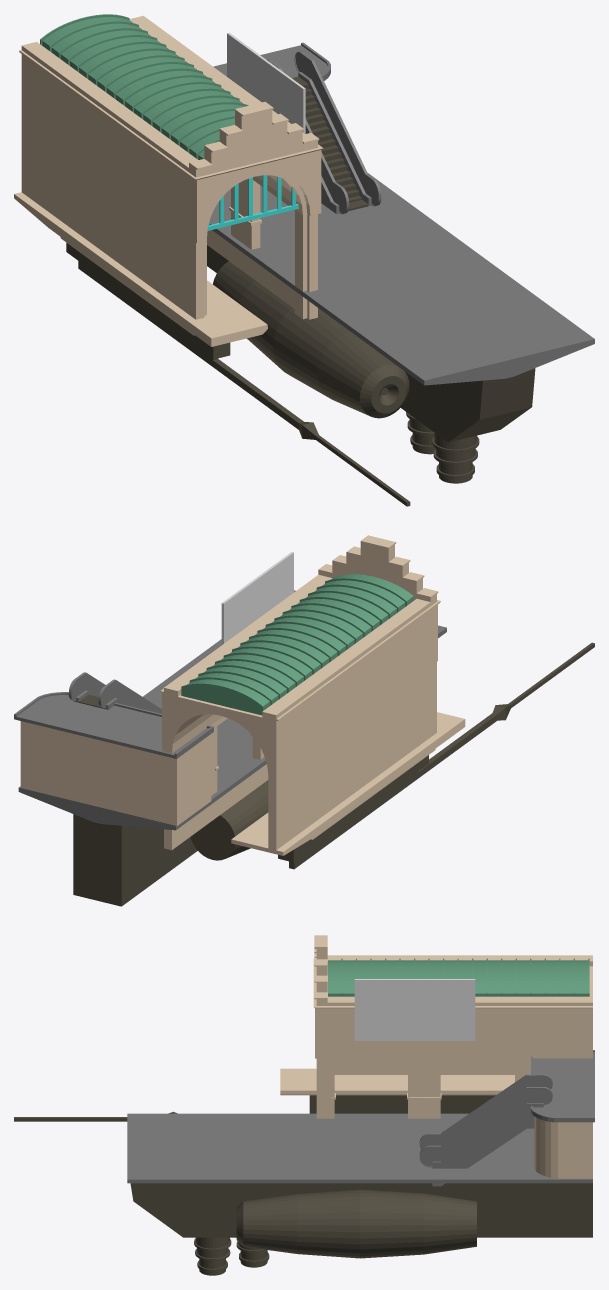
The model's file is trainStation.gltf.
3 renders of one model, top to bottom at view 1: azimuth 30°, elevation 25°; view 2: azimuth 150°, elevation 25°; view 3: azimuth 270°, elevation 25°, orthographic. The views are drawn at different scales.
Visible parts, largest first — view 1: Hall, Cube.009, Roof, Düsen, Cube.010, Cube, Plane.002, Sign, Cylinder, Cube.003, Gitter, Cube.006; view 2: Hall, Roof, Cube.002, Cube.010, Cube.006, Cube.009, Cube, Sign, Düsen, Plane.002; view 3: Cube.009, Hall, Düsen, Cube.010, Roof, Sign, Plane.002, Cube.006, Cube.002, Cube, Cylinder.
Boxes of the visible parts, x1,y1,x2,y2 form: Hall: (14, 15, 323, 346); Cube.009: (209, 173, 594, 385); Roof: (40, 14, 248, 159); Düsen: (213, 261, 409, 418); Cube.010: (207, 245, 535, 442); Cube: (66, 243, 410, 506); Plane.002: (267, 51, 381, 214); Sign: (227, 32, 305, 133); Cylinder: (406, 412, 479, 483); Cube.003: (297, 80, 362, 202); Gitter: (207, 175, 298, 230); Cube.006: (213, 42, 330, 80); Hall: (160, 535, 465, 855); Roof: (181, 574, 413, 715); Cube.002: (20, 721, 211, 825); Cube.010: (73, 814, 197, 906); Cube.006: (14, 692, 213, 758); Cube.009: (18, 590, 446, 830); Cube: (278, 642, 594, 869); Sign: (221, 552, 293, 644); Düsen: (190, 780, 268, 860); Plane.002: (68, 672, 161, 713); Cube.009: (127, 1113, 592, 1183); Hall: (280, 935, 592, 1118); Düsen: (236, 1189, 476, 1258); Cube.010: (130, 1183, 592, 1237); Roof: (328, 958, 589, 996); Sign: (354, 979, 475, 1040); Plane.002: (419, 1074, 552, 1186); Cube.006: (531, 1050, 594, 1122); Cube.002: (534, 1116, 592, 1178); Cube: (14, 1095, 495, 1121); Cylinder: (194, 1237, 269, 1275).
Bounding box in the file's own units: 34.2 × 39.35 × 74.69.
